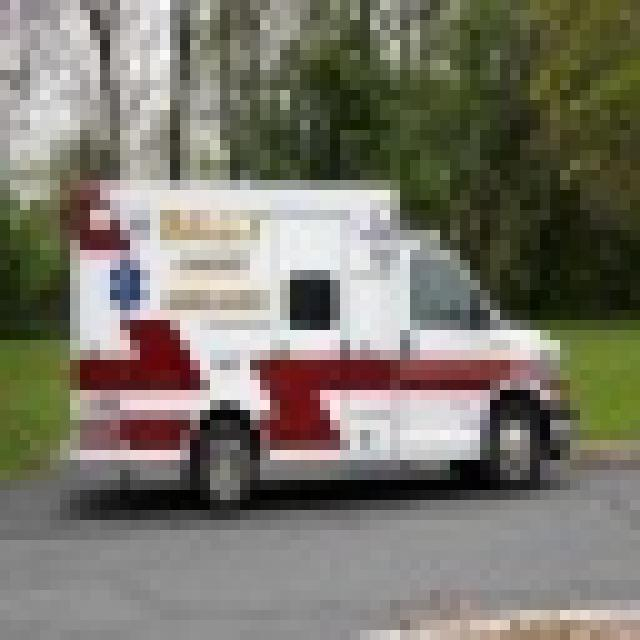Ambulance: (60, 170, 580, 500)
